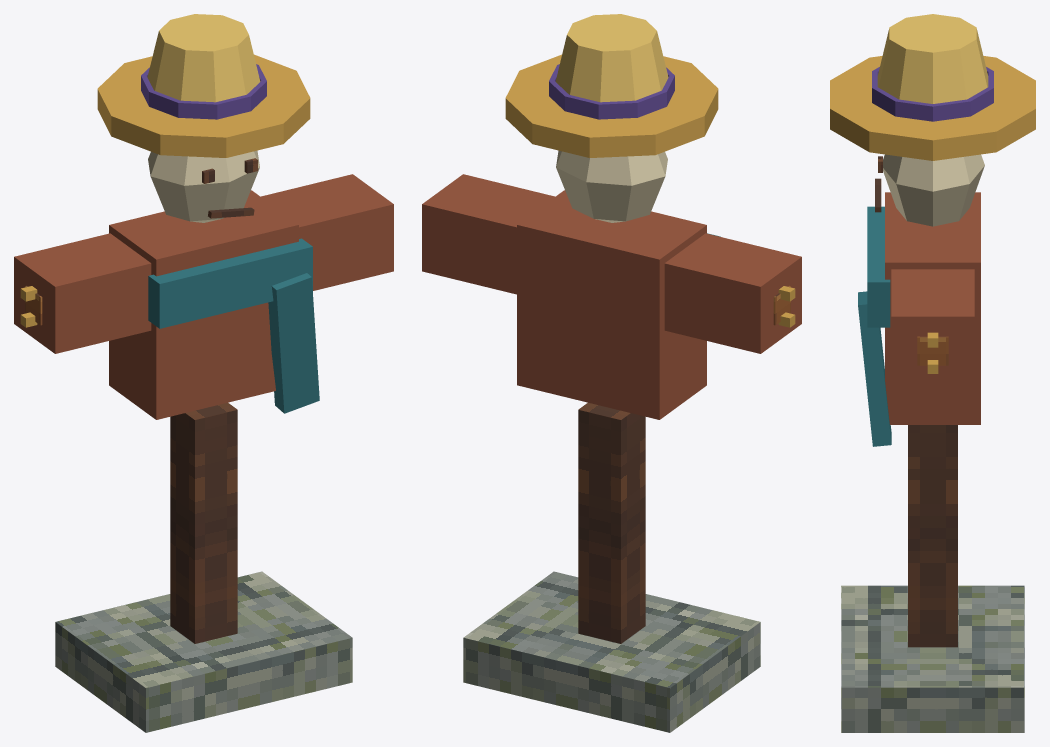
The picture shows the model from 3 angles, left to right: view 1: azimuth 30°, elevation 25°; view 2: azimuth 150°, elevation 25°; view 3: azimuth 270°, elevation 25°; orthographic projection.
Visible parts, largest first — view 1: body_rust, body_stone_dark, body_wood_dark, body_cloth_teal, body_hay, body_hay_light, body_linen, body_cloth_plum; view 2: body_rust, body_stone_dark, body_wood_dark, body_hay, body_hay_light, body_linen, body_cloth_plum; view 3: body_stone_dark, body_rust, body_hay, body_wood_dark, body_hay_light, body_linen, body_cloth_teal, body_cloth_plum, body_wood.
Boxes of the visible parts, x1=… form: body_rust: x1=14, y1=174, x2=393, y2=419; body_stone_dark: x1=55, y1=571, x2=352, y2=732; body_wood_dark: x1=170, y1=158, x2=257, y2=643; body_cloth_teal: x1=148, y1=238, x2=319, y2=413; body_hay: x1=20, y1=54, x2=310, y2=327; body_hay_light: x1=147, y1=14, x2=260, y2=102; body_linen: x1=148, y1=150, x2=259, y2=222; body_cloth_plum: x1=141, y1=64, x2=266, y2=119; body_rust: x1=422, y1=174, x2=801, y2=419; body_stone_dark: x1=463, y1=571, x2=760, y2=732; body_wood_dark: x1=578, y1=402, x2=645, y2=643; body_hay: x1=505, y1=54, x2=795, y2=327; body_hay_light: x1=555, y1=14, x2=668, y2=102; body_linen: x1=556, y1=150, x2=667, y2=222; body_cloth_plum: x1=549, y1=64, x2=674, y2=119; body_stone_dark: x1=841, y1=585, x2=1024, y2=732; body_rust: x1=885, y1=192, x2=980, y2=424; body_hay: x1=830, y1=56, x2=1035, y2=373; body_wood_dark: x1=875, y1=156, x2=957, y2=647; body_hay_light: x1=877, y1=14, x2=988, y2=103; body_linen: x1=883, y1=154, x2=984, y2=226; body_cloth_teal: x1=858, y1=206, x2=891, y2=446; body_cloth_plum: x1=872, y1=67, x2=993, y2=121; body_wood: x1=917, y1=336, x2=948, y2=365.
Size of the model in its own units: 1.01 by 1.72 by 0.4945.
9 materials, 3 textured.
